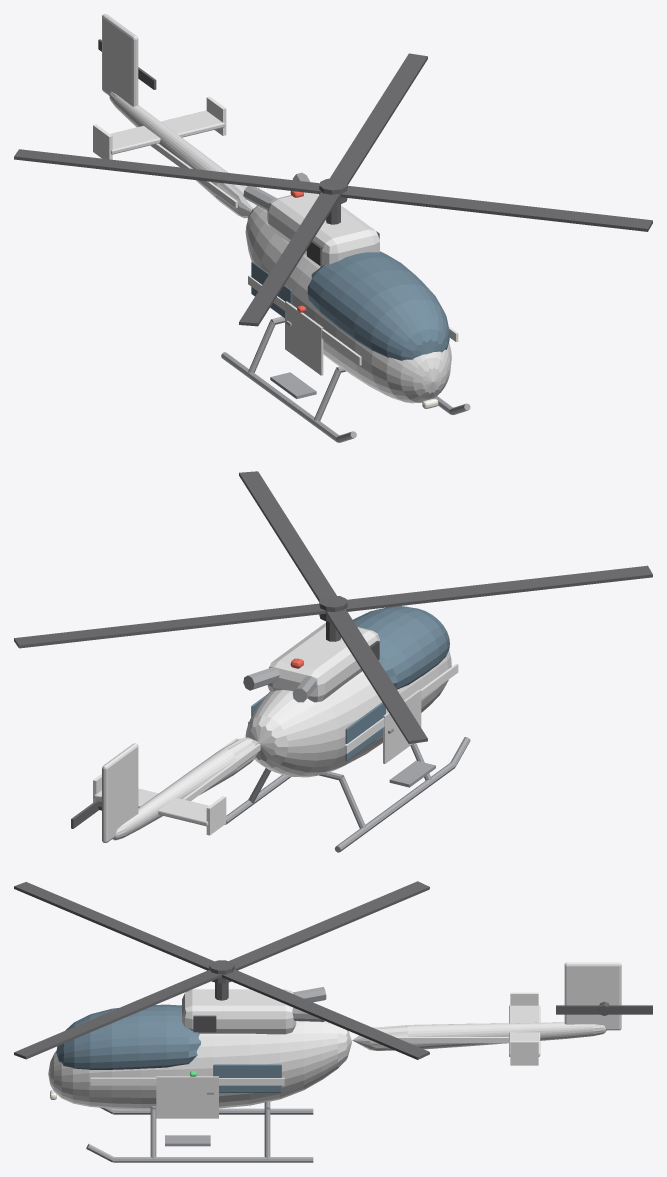
Rendered from helicopter.glb.
The picture shows the model from 3 angles, top to bottom: view 1: azimuth 30°, elevation 25°; view 2: azimuth 150°, elevation 25°; view 3: azimuth 270°, elevation 25°; orthographic projection. The views are drawn at different scales.
Parts seen in each view (by area): view 1: body, rotor-main, detach_door_right, detach_step_right; view 2: body, rotor-main, detach_door_right, detach_step_right; view 3: body, rotor-main, detach_door_left, rotor-tail, detach_step_left.
Boxes of the visible parts, x1,y1,x2,y2 form: body: (93, 14, 470, 442); rotor-main: (14, 53, 652, 326); detach_door_right: (285, 301, 323, 375); detach_step_right: (270, 372, 316, 398); body: (93, 606, 470, 852); rotor-main: (14, 471, 652, 744); detach_door_right: (383, 689, 421, 763); detach_step_right: (389, 760, 435, 787); body: (48, 962, 621, 1162); rotor-main: (14, 881, 429, 1059); detach_door_left: (156, 1076, 218, 1118); rotor-tail: (556, 1001, 652, 1015); detach_step_left: (165, 1135, 210, 1146).
Size of the model in its own units: 7.28 by 3.4 by 11.19.
